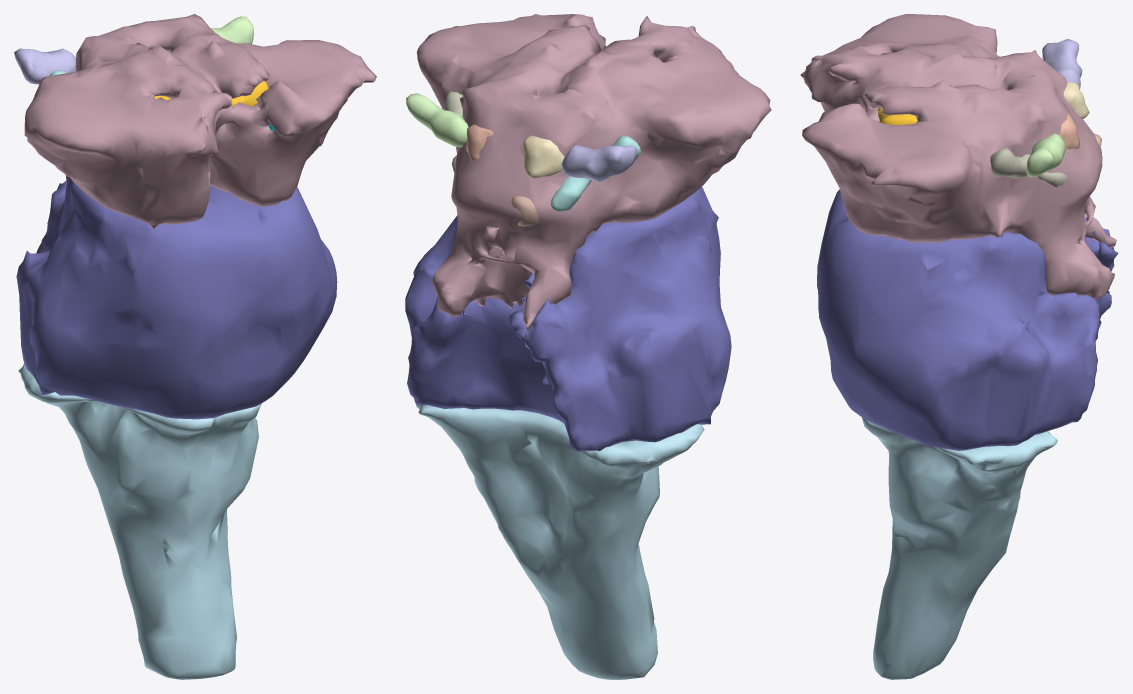
The model's file is brainstem.lod1.glb.
3 renders of one model, left to right at view 1: azimuth 30°, elevation 25°; view 2: azimuth 150°, elevation 25°; view 3: azimuth 270°, elevation 25°, orthographic. The views are drawn at different scales.
Parts seen in each view (by area): view 1: pons, part-of-midbrain, medulla-oblongata, brachia-of-superior-colliculus-r, brachia-of-superior-colliculus-l; view 2: part-of-midbrain, pons, medulla-oblongata, brachia-of-superior-colliculus-r, brachia-of-superior-colliculus-l, superior-colliculus-r, brachia-of-inferior-colliculus-r, superior-colliculus-l, inferior-colliculus-r; view 3: part-of-midbrain, pons, medulla-oblongata, brachia-of-superior-colliculus-r, brachia-of-inferior-colliculus-l, brachia-of-superior-colliculus-l, superior-colliculus-r, superior-colliculus-l.
Part boxes in pixels (bbox=[...]): pons: bbox=[16, 176, 337, 419]; part-of-midbrain: bbox=[24, 14, 376, 229]; medulla-oblongata: bbox=[18, 363, 261, 679]; brachia-of-superior-colliculus-r: bbox=[14, 48, 75, 84]; brachia-of-superior-colliculus-l: bbox=[210, 16, 261, 44]; part-of-midbrain: bbox=[416, 14, 771, 331]; pons: bbox=[405, 187, 731, 451]; medulla-oblongata: bbox=[415, 403, 704, 679]; brachia-of-superior-colliculus-r: bbox=[561, 145, 636, 182]; brachia-of-superior-colliculus-l: bbox=[406, 93, 468, 147]; superior-colliculus-r: bbox=[523, 135, 564, 178]; brachia-of-inferior-colliculus-r: bbox=[551, 135, 640, 211]; superior-colliculus-l: bbox=[466, 124, 493, 160]; inferior-colliculus-r: bbox=[511, 196, 539, 226]; part-of-midbrain: bbox=[800, 14, 1116, 299]; pons: bbox=[817, 189, 1118, 450]; medulla-oblongata: bbox=[862, 417, 1057, 679]; brachia-of-superior-colliculus-r: bbox=[1042, 39, 1082, 89]; brachia-of-inferior-colliculus-l: bbox=[990, 148, 1067, 187]; brachia-of-superior-colliculus-l: bbox=[1023, 133, 1066, 177]; superior-colliculus-r: bbox=[1063, 82, 1089, 118]; superior-colliculus-l: bbox=[1059, 113, 1079, 149].
Bounding box in the file's own units: 0.0468 × 0.0841 × 0.0398.
